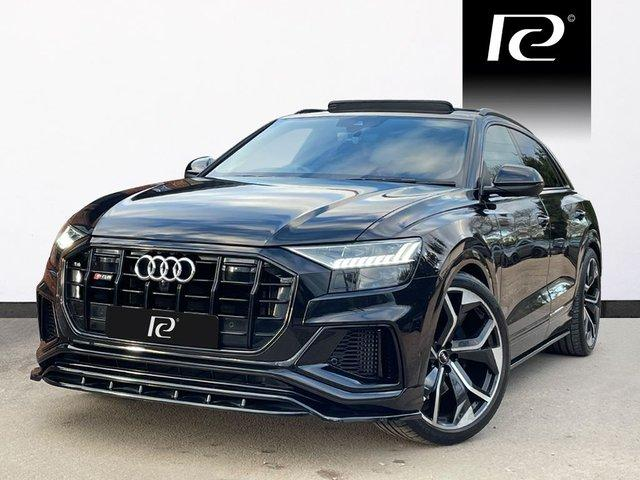audi: (31, 100, 603, 446)
